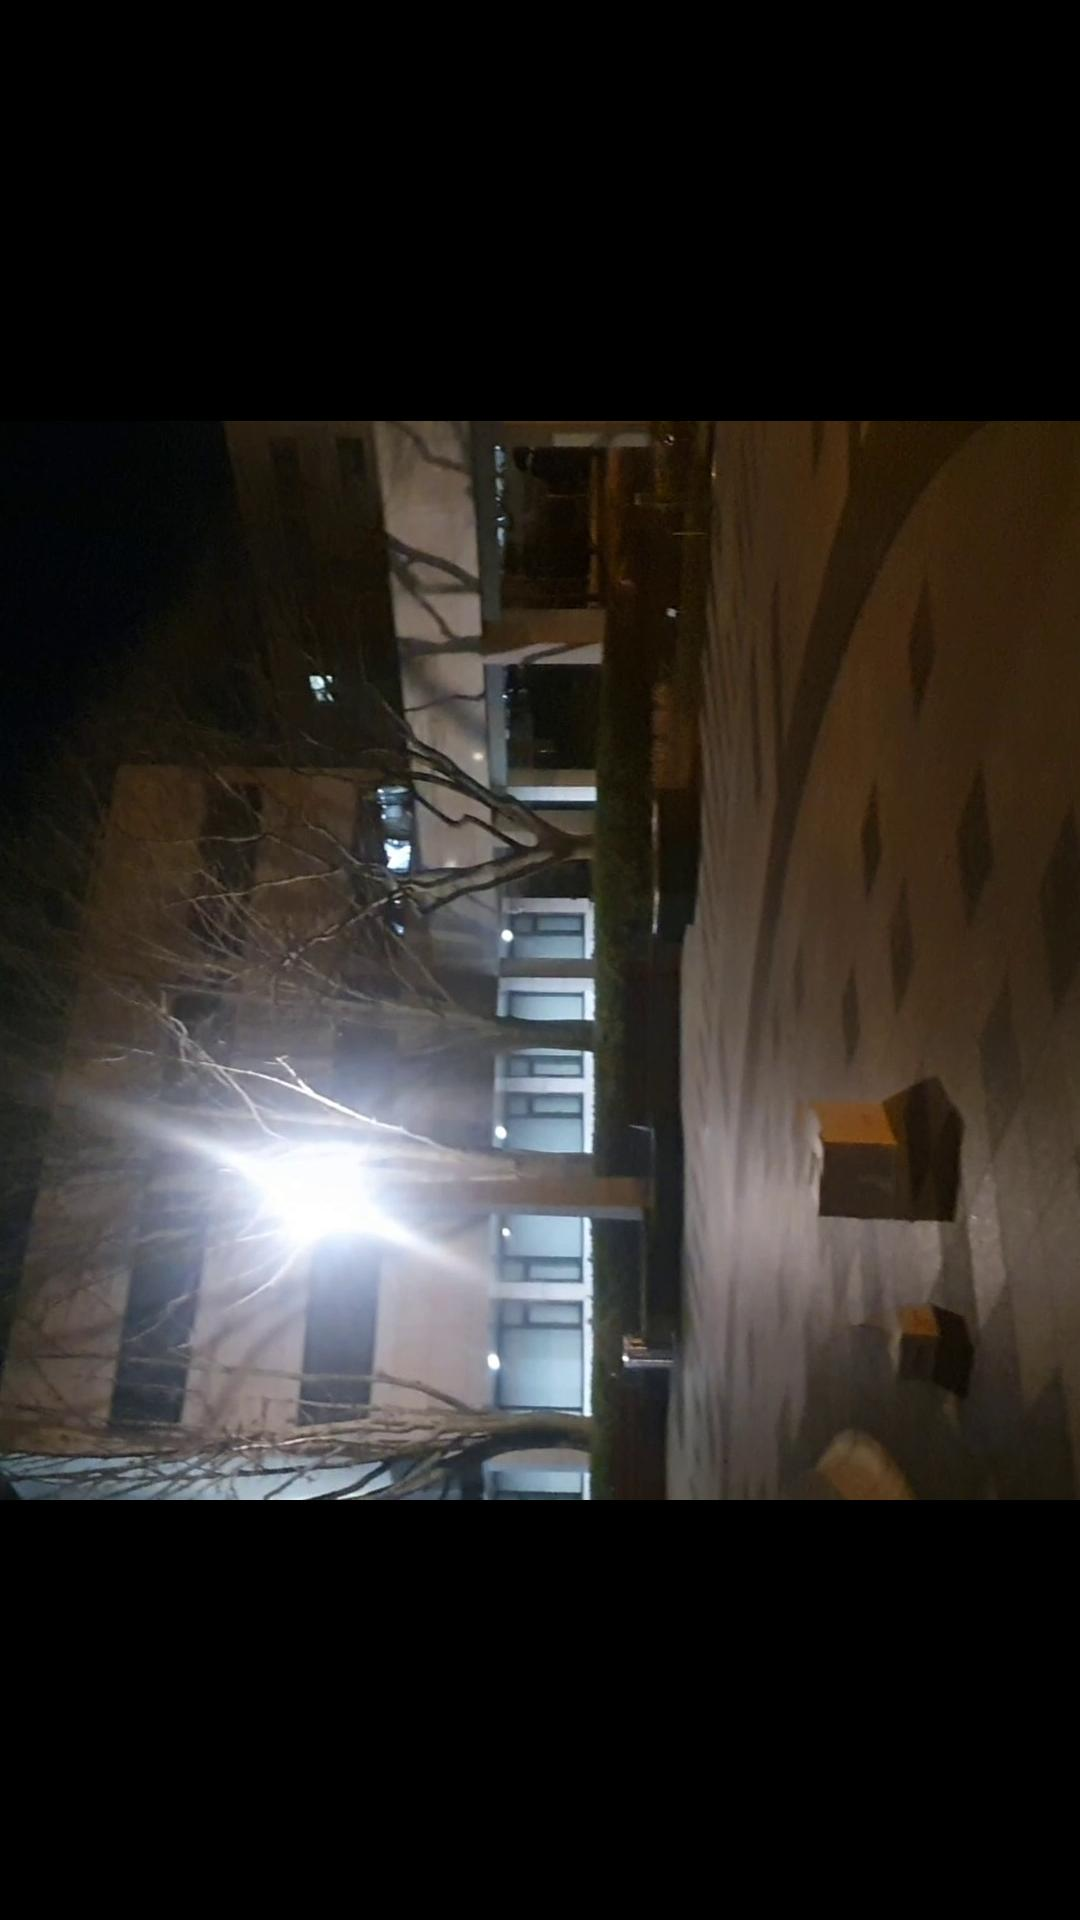Box: (793, 1095, 915, 1232), (870, 1295, 949, 1385)
